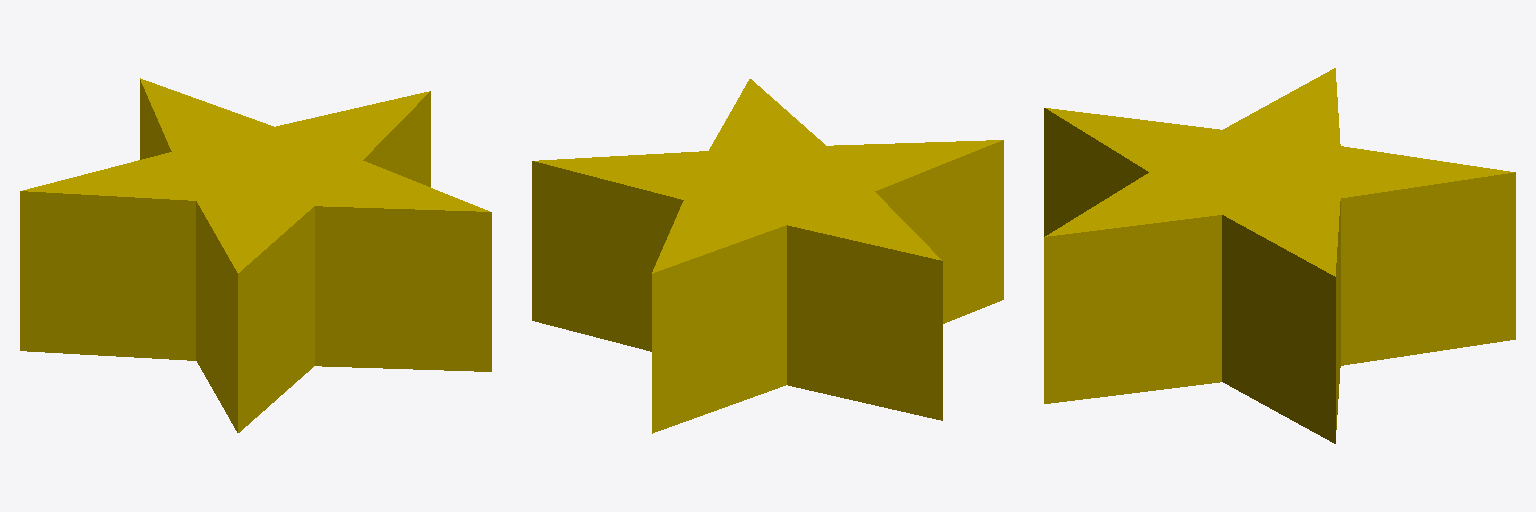
robot.urdf — star:
<?xml version="1.0"?>
<robot name="star">
    <link name="base_link">
        <inertial>
            <origin xyz="0 0 0" rpy="0 0 0"/>
            <mass value="0.1"/>
            <inertia ixx="0.01413" ixy="0" ixz="0" iyy="0.01413" iyz="0" izz="0.0011283" />
        </inertial>

        <visual>
            <origin xyz="0 0 0" rpy="0 0 0" />
            <geometry>
                <mesh filename="star.stl" scale="1 1 1" />
            </geometry>
            <material name="color">
                <color rgba="0.8 0.7 0.0 1.0"/>
            </material>
        </visual>

        <collision>
            <origin xyz="0 0 0" rpy="0 0 0"/>
            <geometry>
                <mesh filename="star.stl" scale="1 1 1" />
            </geometry>
        </collision>
    </link>
</robot>

--- Render facts (derived) ---
3 views of the same robot in one strip: view 1: azimuth 30°, elevation 25°; view 2: azimuth 150°, elevation 25°; view 3: azimuth 270°, elevation 25° (orthographic).
Model star with 1 links and 0 joints (none), rooted at base_link, posed every joint at zero.
Visible links, largest first — view 1: base_link; view 2: base_link; view 3: base_link.
Link boxes in pixels (<box>): base_link: <box>20,78,491,432</box>; base_link: <box>532,79,1003,433</box>; base_link: <box>1044,68,1515,443</box>.
Size in the robot's own frame: 0.1782 by 0.1695 by 0.0664 metres.
Meshes: 1 distinct files referenced, 1 mesh visuals loaded (1 binary STL).